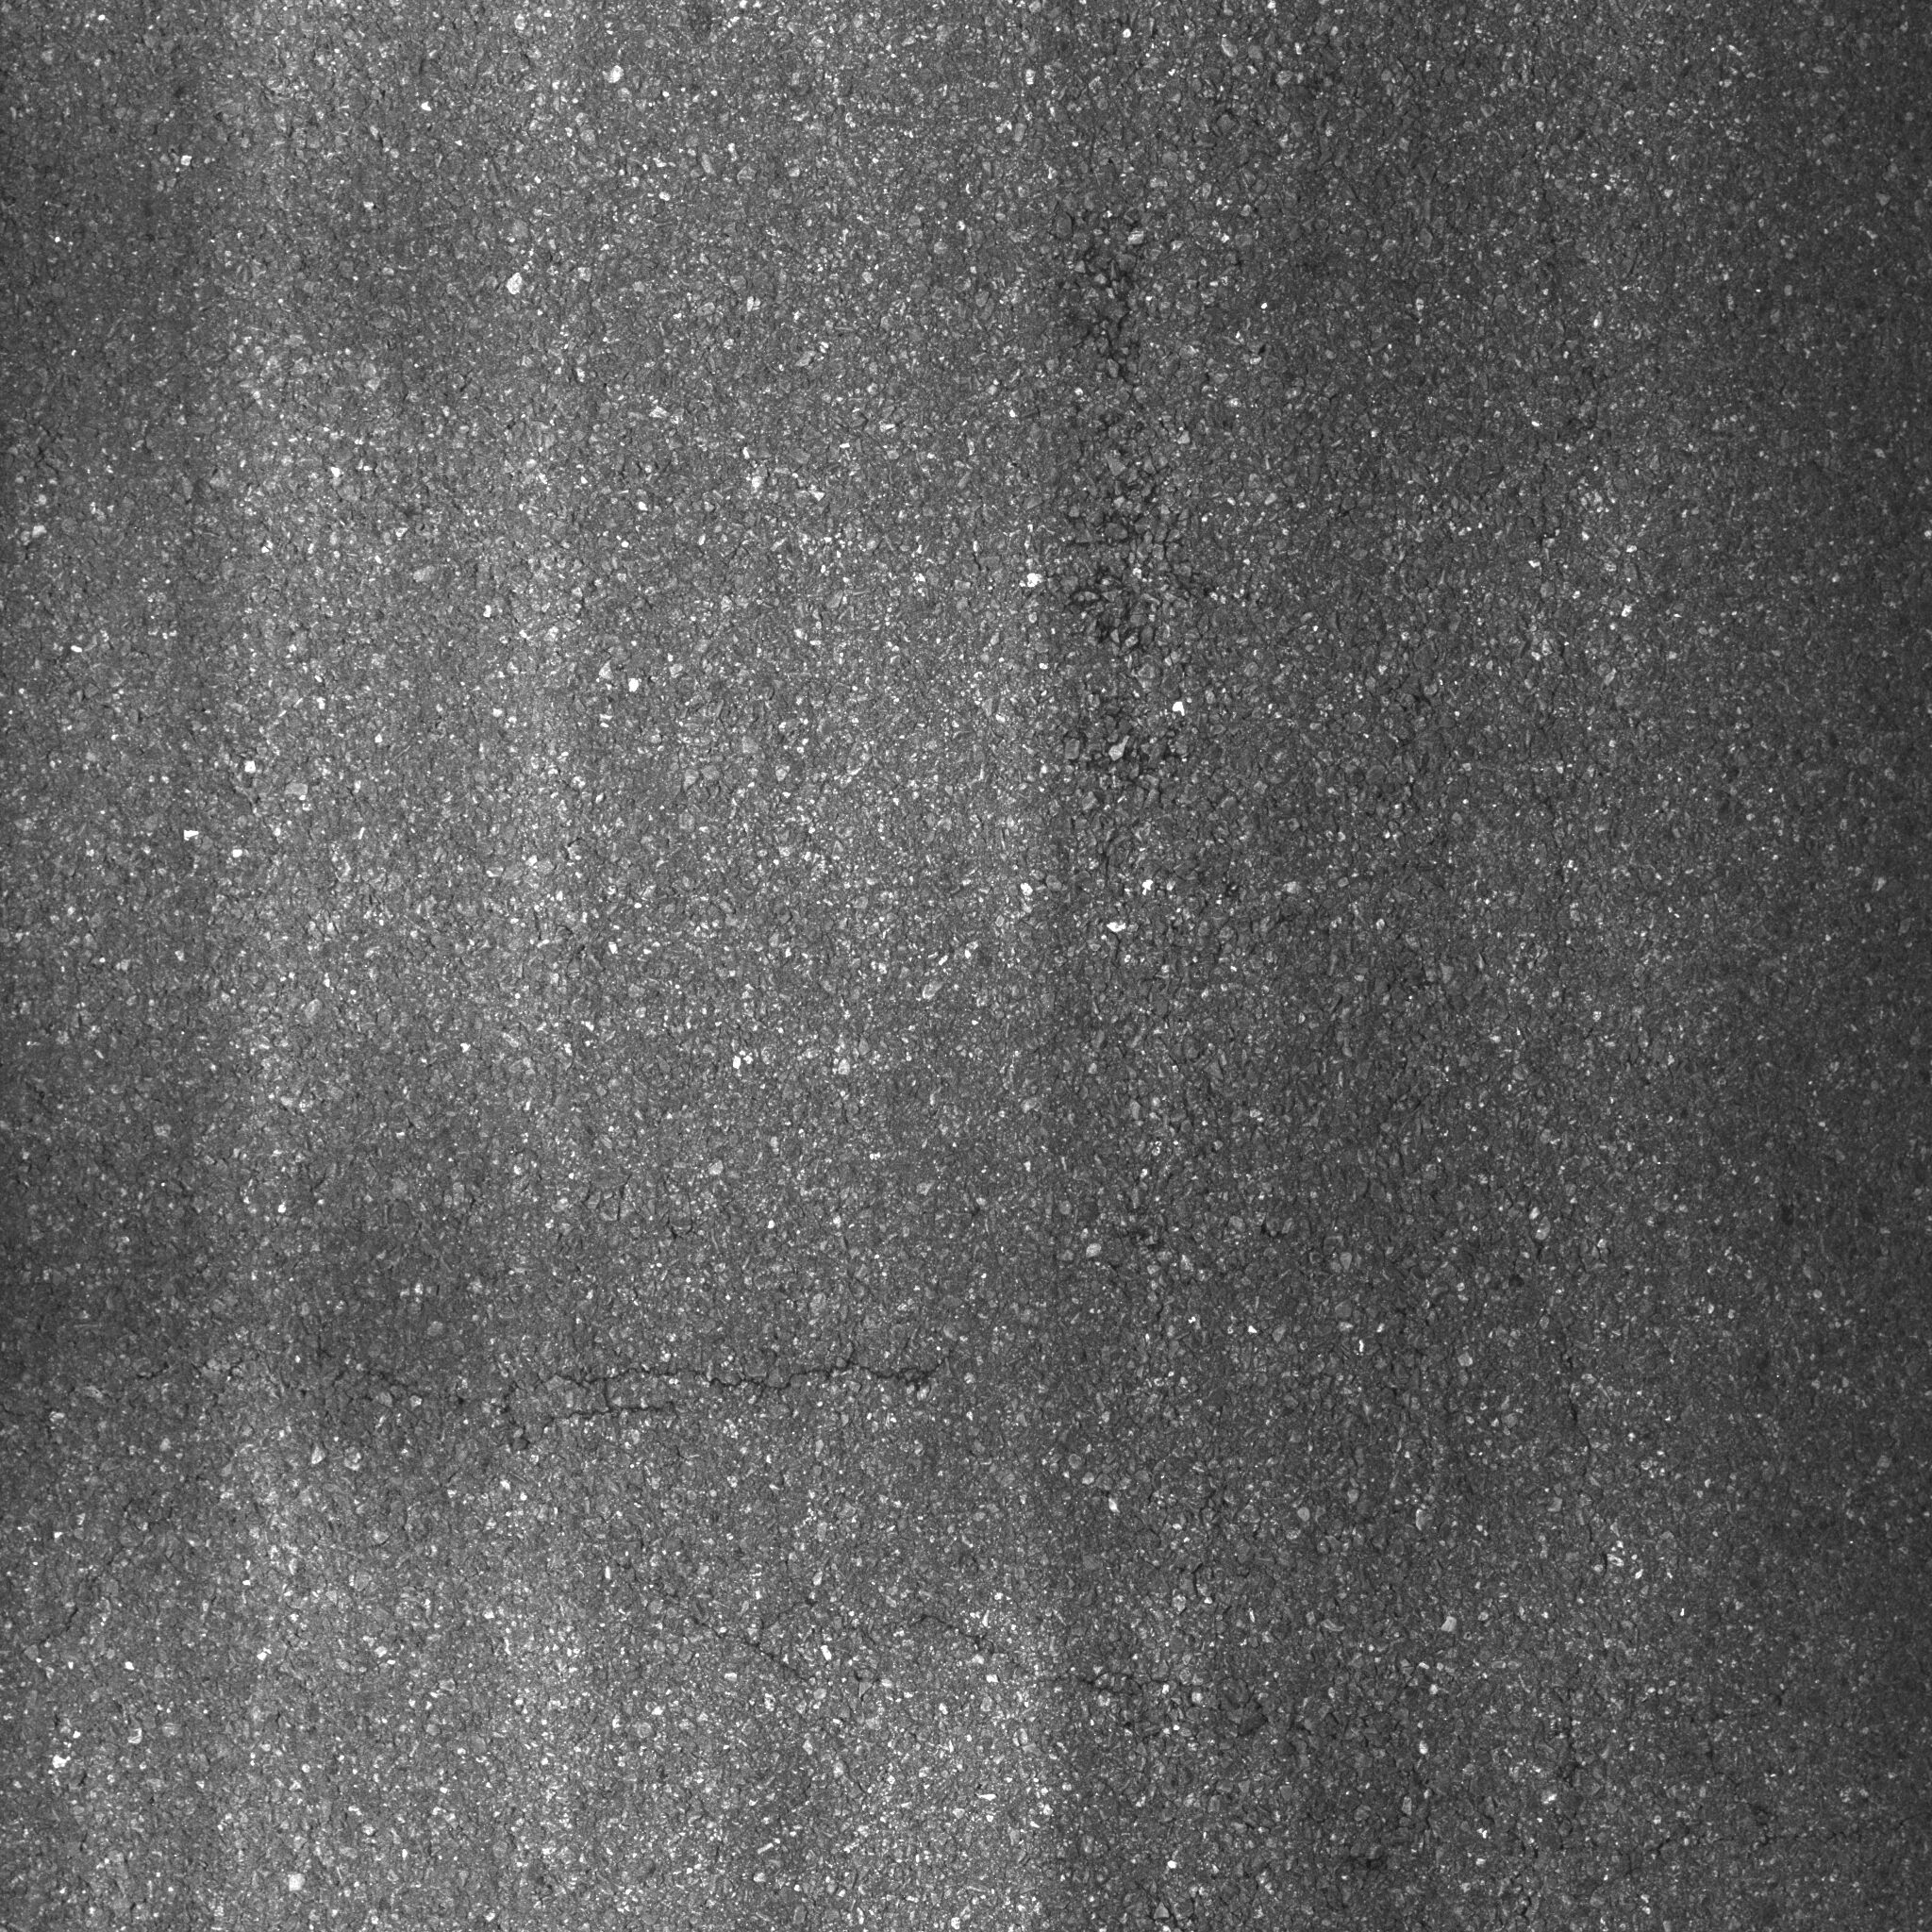transeverse: (897, 1580, 1408, 1867), (173, 1323, 964, 1461)
